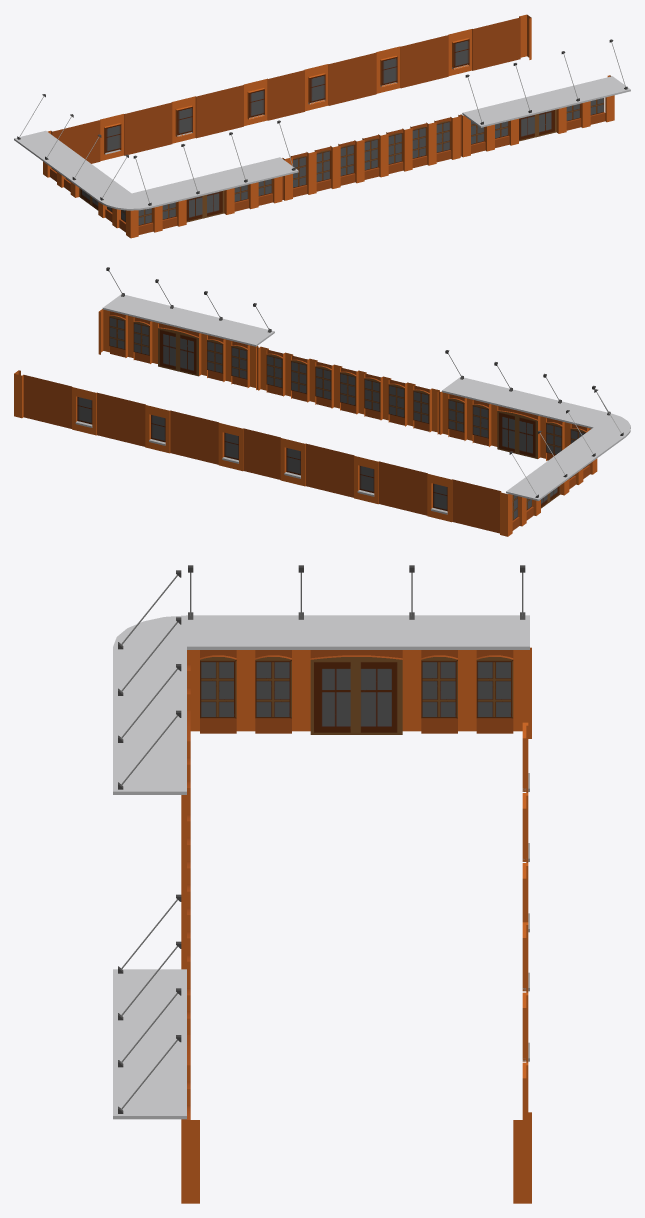
File: BuildingSmall1_1.fbx
3 views of the same model, one above another, from view 1: azimuth 30°, elevation 25°; view 2: azimuth 150°, elevation 25°; view 3: azimuth 270°, elevation 25° (orthographic). The views are drawn at different scales.
Visible parts, largest first — view 1: BuildingSmall1_1; view 2: BuildingSmall1_1; view 3: BuildingSmall1_1.
Part boxes in pixels (box(x1,y1,x2,y2)): BuildingSmall1_1: box(14, 14, 630, 238); BuildingSmall1_1: box(14, 267, 630, 536); BuildingSmall1_1: box(113, 565, 531, 1203).
Bounding box in the file's own units: 6430 × 978 × 2270.
